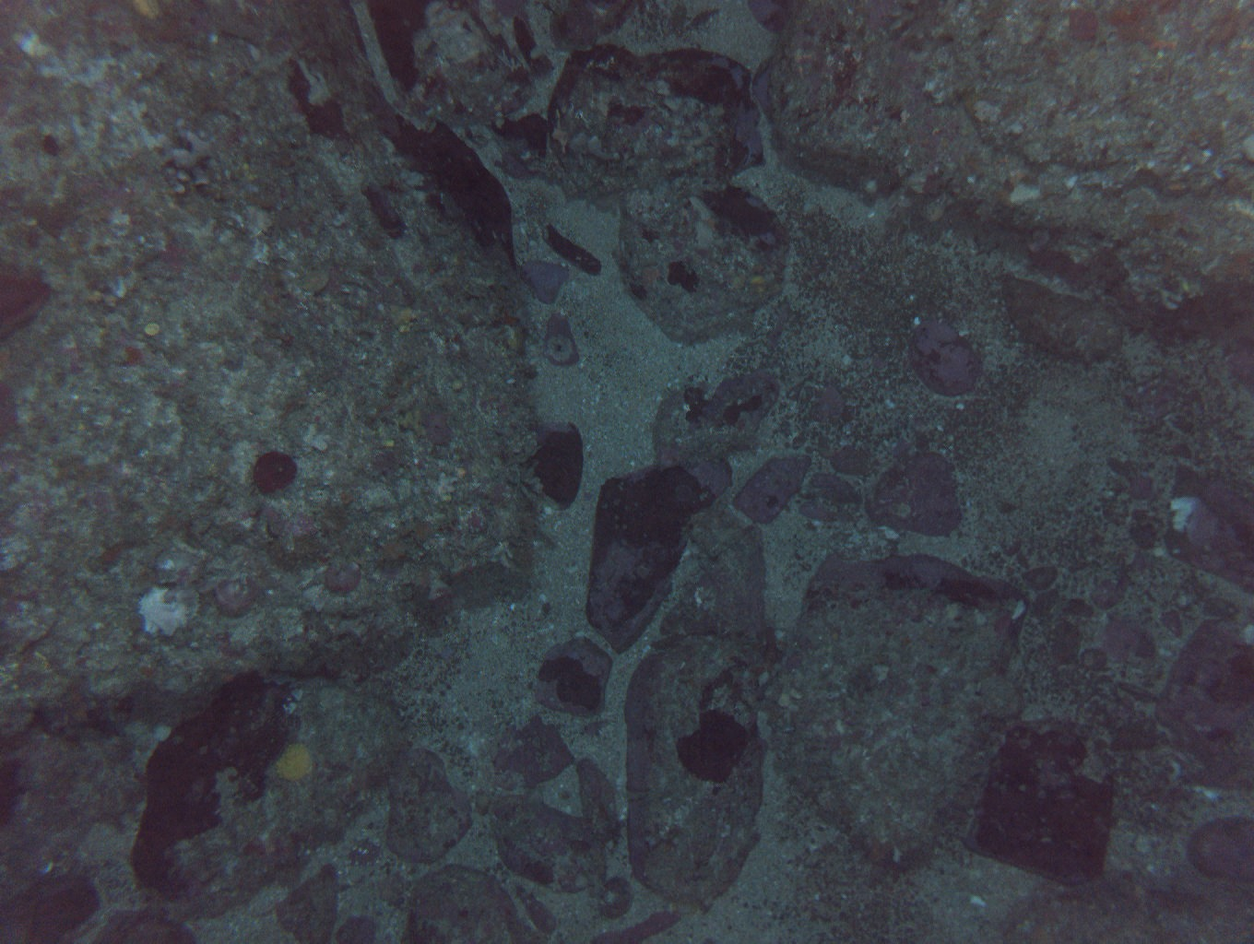Brachionichthyidae: (749, 626, 789, 678)
